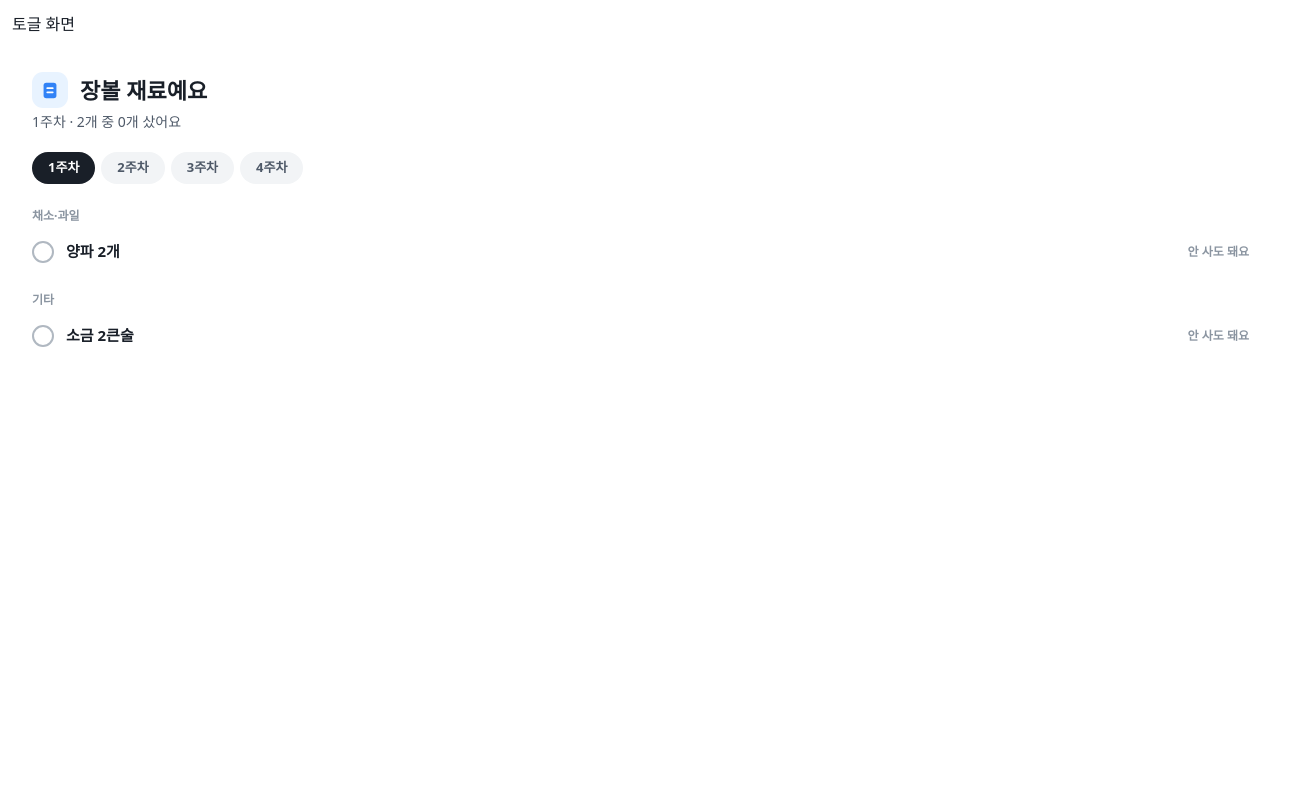
Scenario: ShoppingScreen › lists the removed items in a summary row at the top and lets them be bought again
Expected: the button "안 사도 되는 재료" is not shown
Click the button with aria-label "양파 안 사도 돼요" at (1218, 252), box [1180, 238, 1257, 266]
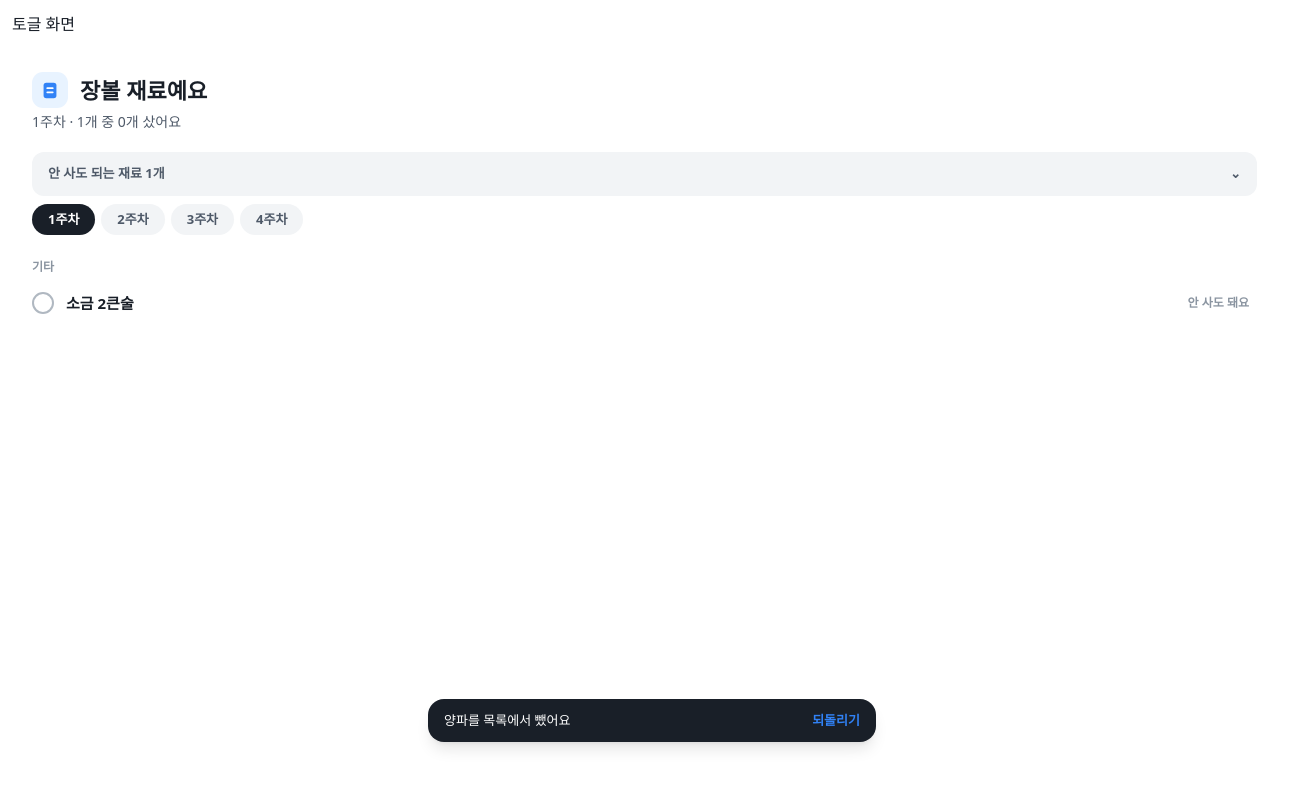
Expected: the button "양파 다시 사기" is not shown
Click the button "안 사도 되는 재료 1개 ⌄" at (97, 173), box [32, 152, 1257, 196]
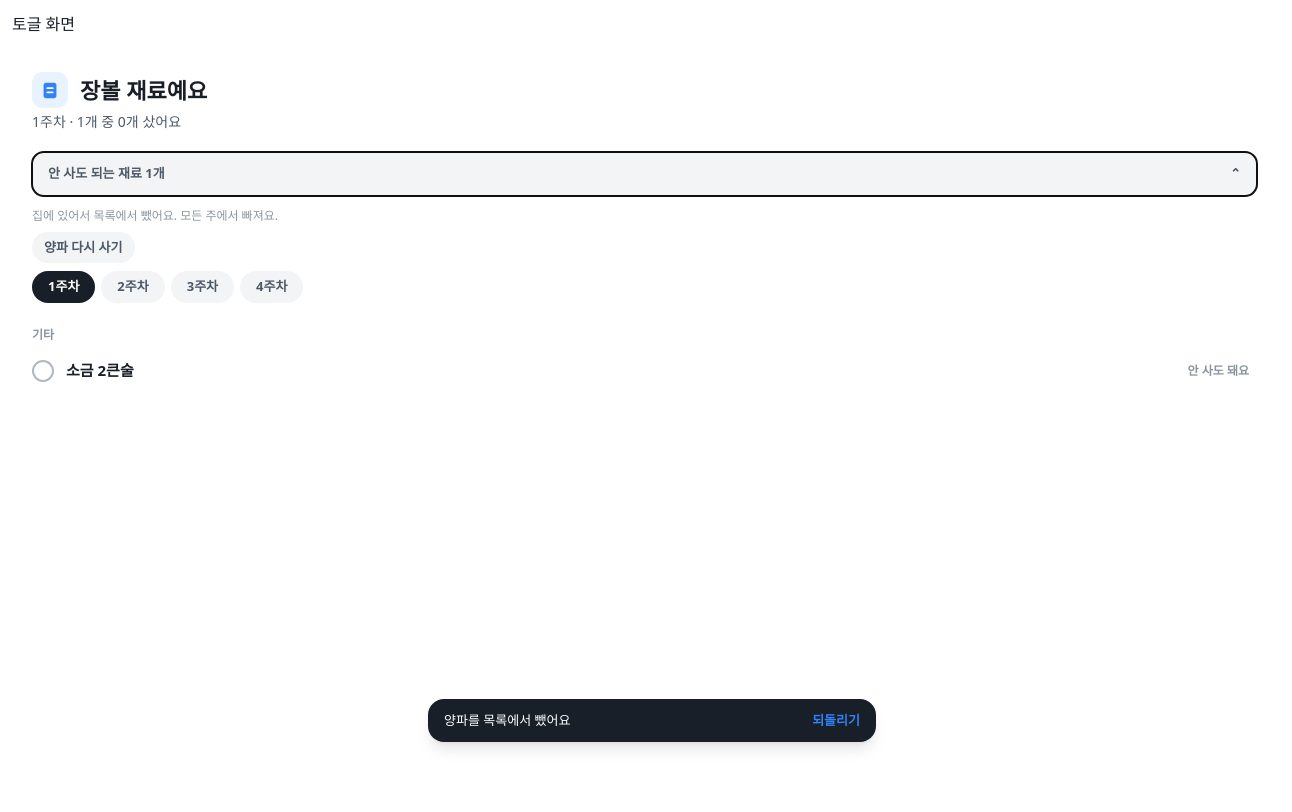
Click the button "양파 다시 사기" at (83, 247), box [32, 232, 134, 263]
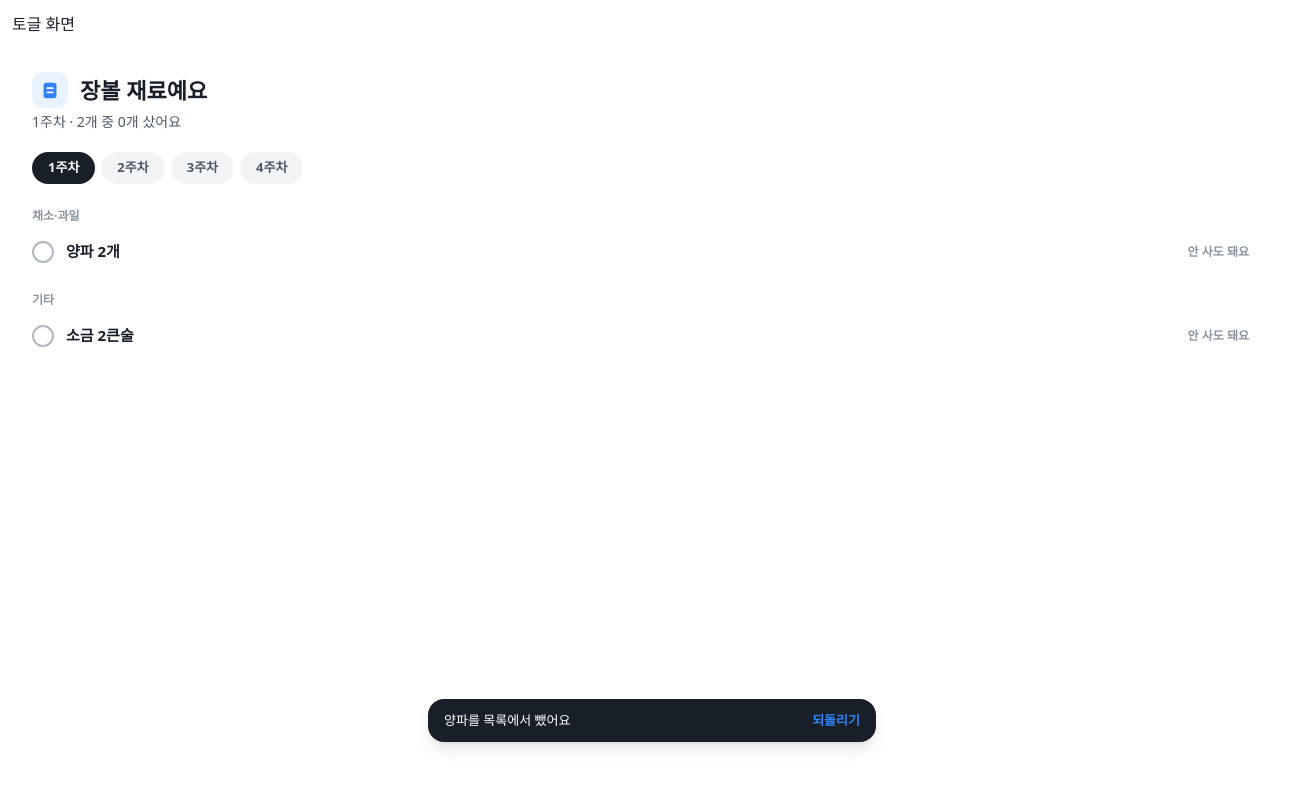
Now the text "양파 2개" is shown, box [66, 241, 120, 261]
Now the button "안 사도 되는 재료" is gone
